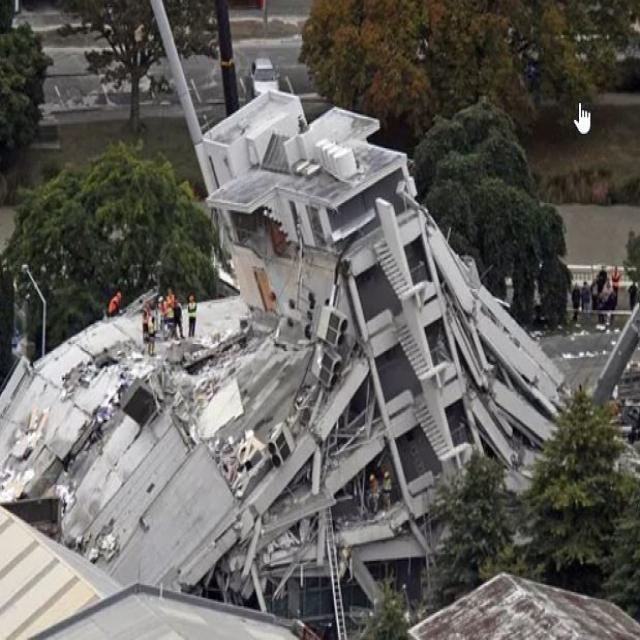collapsed_building: (0, 133, 476, 586)
